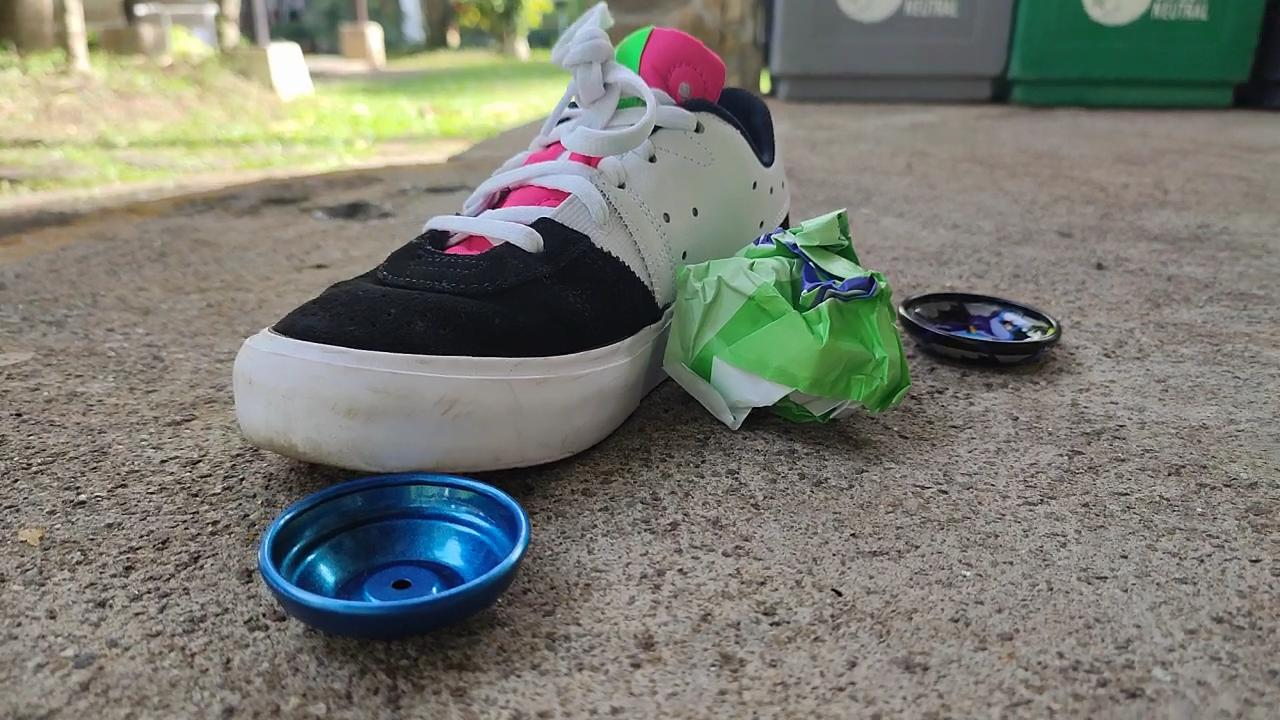Paper: (646, 182, 918, 449)
